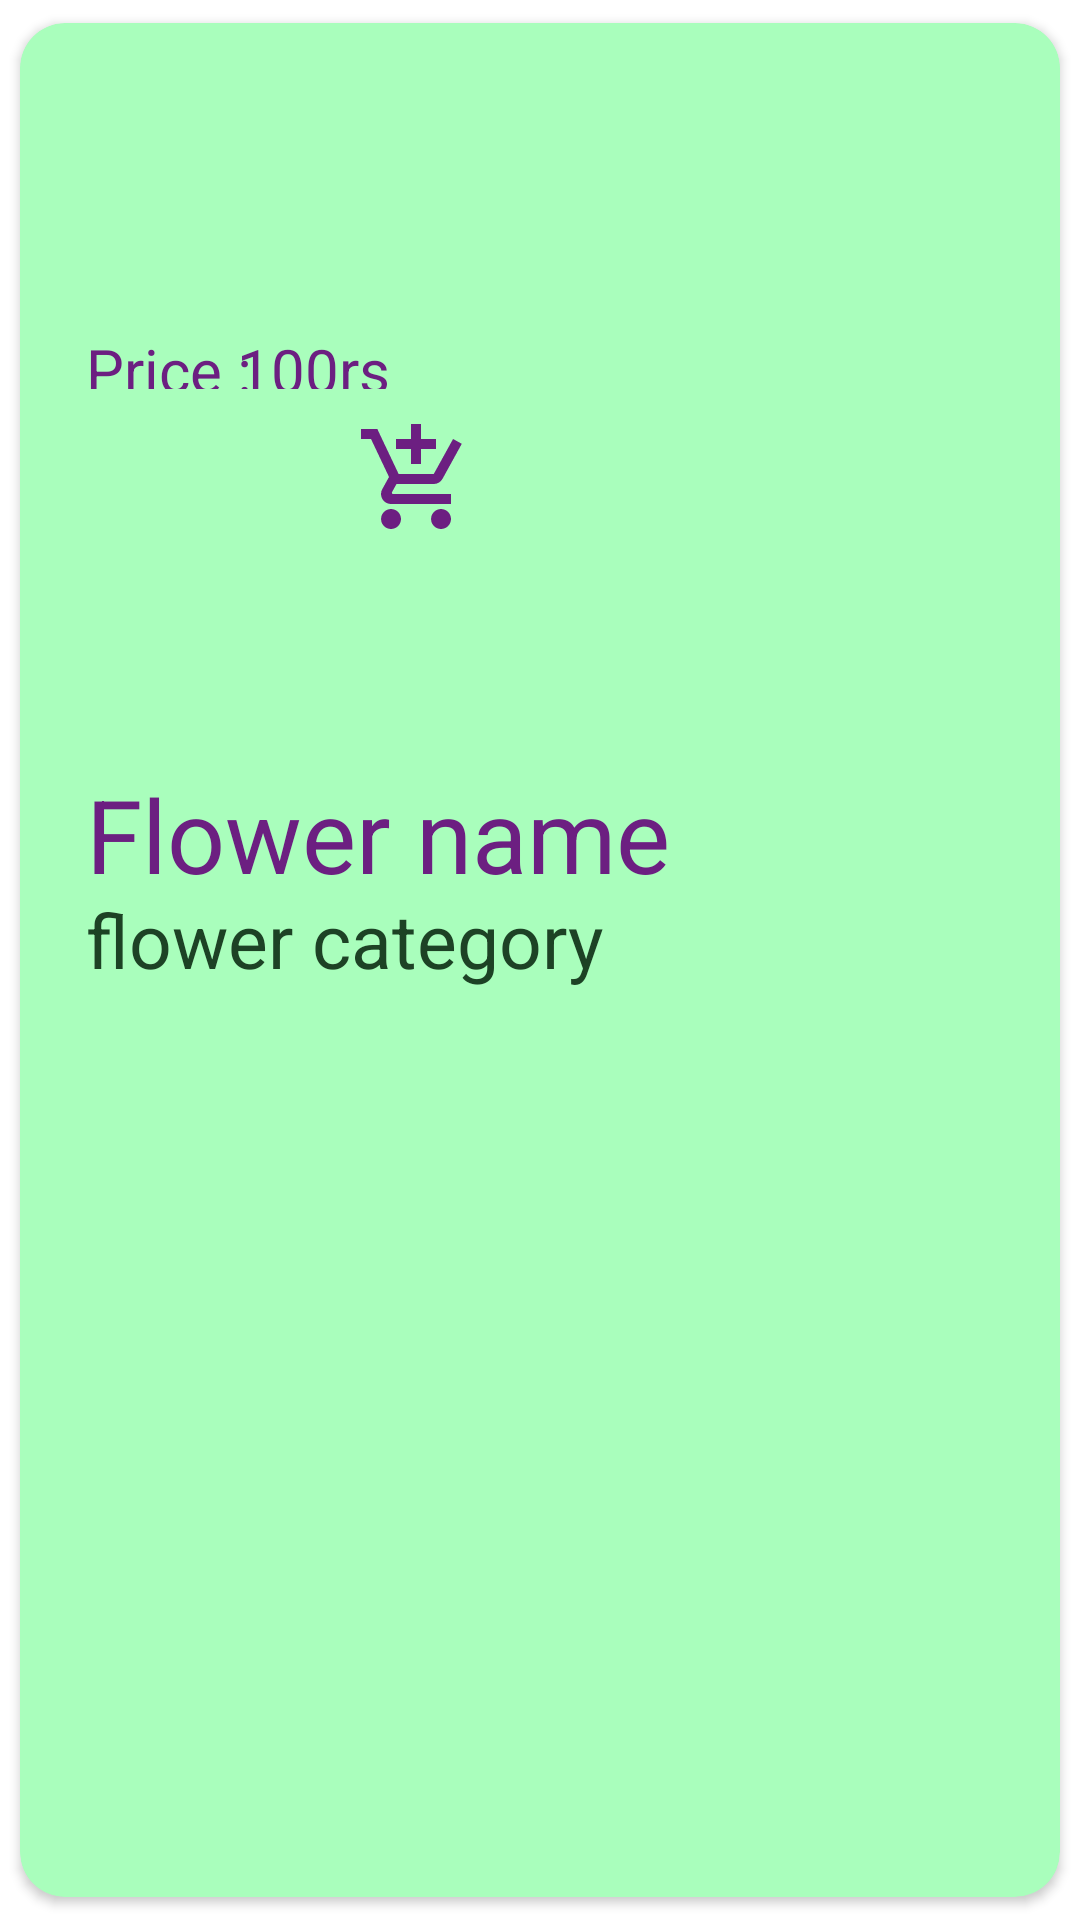

Icons on this 1080*1920 Android screen, each with its box as [left=x1, top=y1, right=x2, bottom=y2]:
add shopping cart: [left=361, top=424, right=462, bottom=529]
